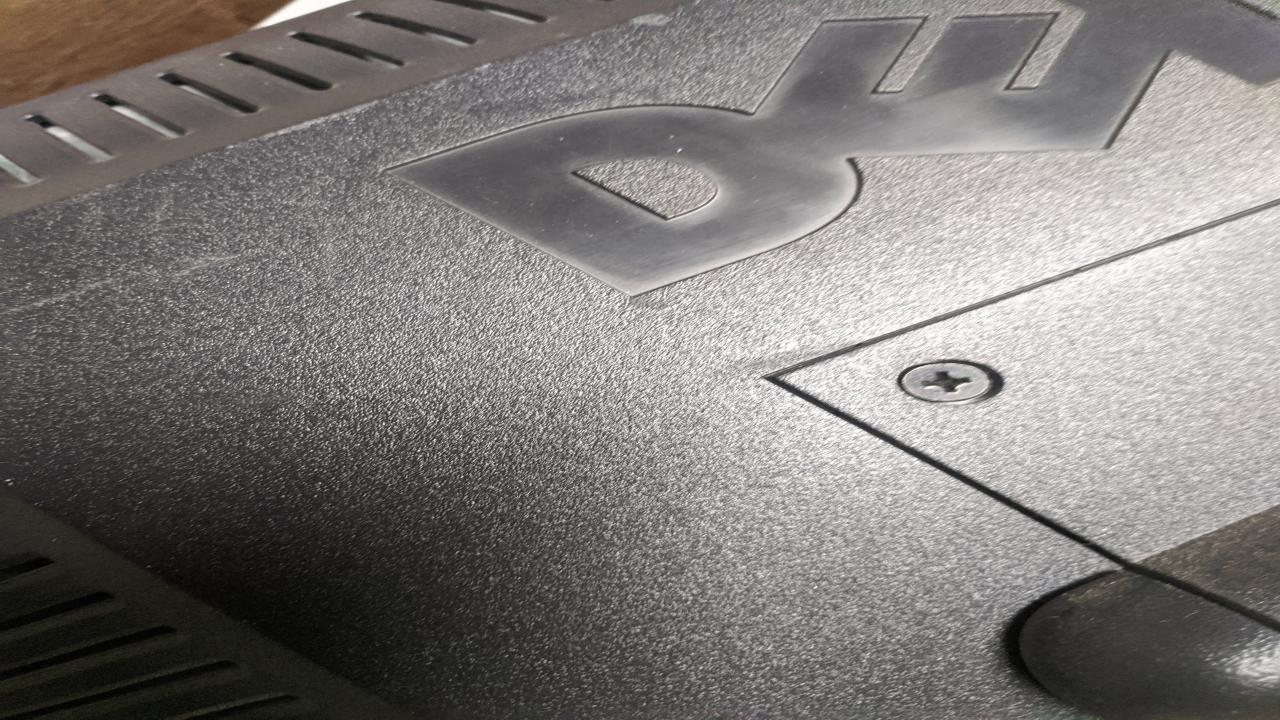CRS: (890, 356, 1004, 404)
